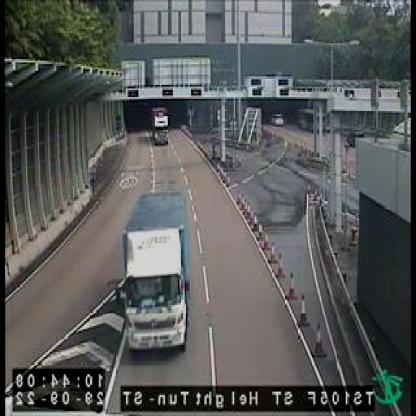Bus: (151, 104, 174, 149)
Car: (270, 113, 284, 123)
Truck: (125, 187, 188, 352)
